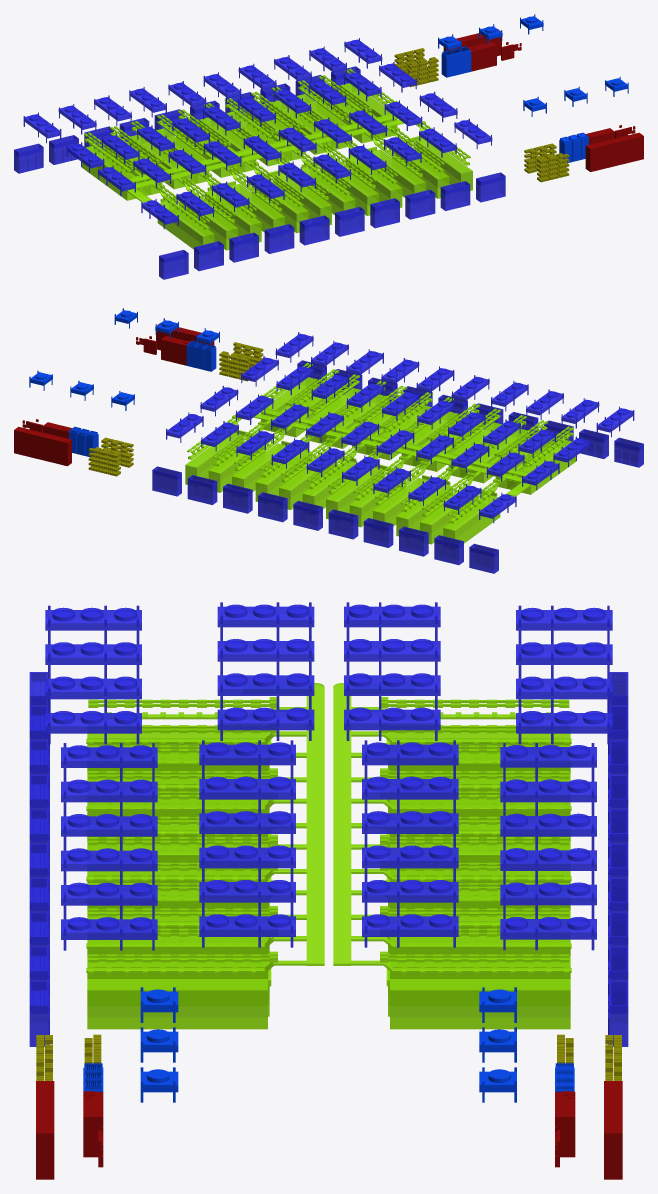
3 views of the same model, one above another, from view 1: azimuth 30°, elevation 25°; view 2: azimuth 150°, elevation 25°; view 3: azimuth 270°, elevation 25° (orthographic). The views are drawn at different scales.
Parts seen in each view (by area): view 1: 1-racks, 1-AC-ext, 1-AC-int, 1-powMod-A, 1-powMod-B; view 2: 1-racks, 1-AC-ext, 1-AC-int, 1-powMod-B, 1-powMod-A; view 3: 1-AC-ext, 1-racks, 1-AC-int, 1-powMod-A, 1-powMod-B.
Part boxes in pixels (box(x1,y1,x2,y2)): 1-racks: box(82, 68, 472, 250); 1-AC-ext: box(23, 38, 492, 229); 1-AC-int: box(14, 66, 505, 279); 1-powMod-A: box(523, 77, 643, 182); 1-powMod-B: box(394, 14, 543, 87); 1-racks: box(185, 362, 575, 544); 1-AC-ext: box(166, 332, 634, 523); 1-AC-int: box(152, 360, 643, 573); 1-powMod-B: box(14, 370, 134, 476); 1-powMod-A: box(114, 308, 263, 381); 1-AC-ext: box(45, 602, 612, 950); 1-racks: box(86, 683, 571, 1029); 1-AC-int: box(29, 672, 628, 1046); 1-powMod-A: box(36, 987, 178, 1179); 1-powMod-B: box(479, 987, 622, 1179).
Size of the model in its own units: 67.17 by 7.57 by 35.35.
